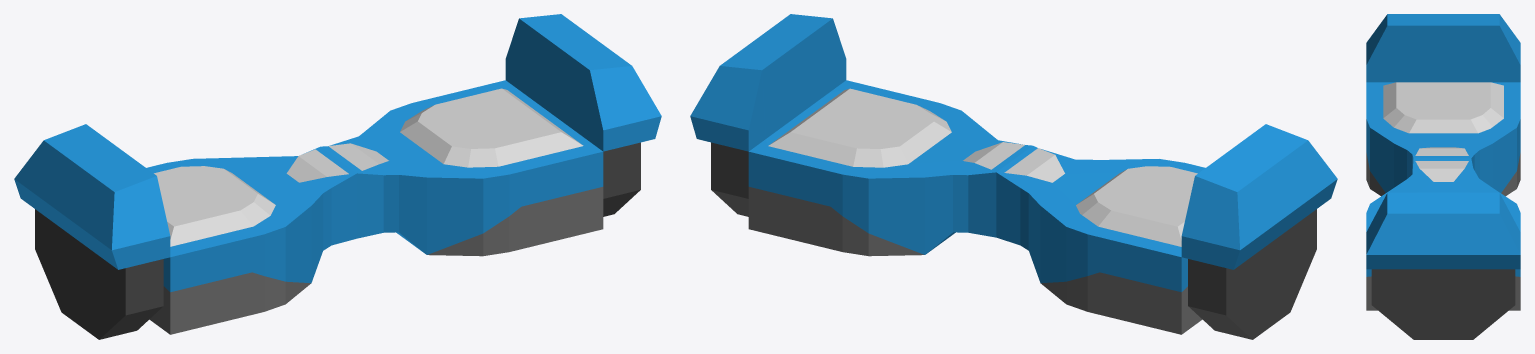
Rendered from Hoverboard.fbx.
3 views of the same model, side by side, from view 1: azimuth 30°, elevation 25°; view 2: azimuth 150°, elevation 25°; view 3: azimuth 270°, elevation 25° (orthographic). The views are drawn at different scales.
Parts seen in each view (by area): view 1: Cube; view 2: Cube; view 3: Cube.
Boxes of the visible parts, x1,y1,x2,y2 form: Cube: (14, 14, 661, 339); Cube: (690, 14, 1337, 339); Cube: (1366, 14, 1520, 339).
Size of the model in its own units: 883 by 255 by 272.
